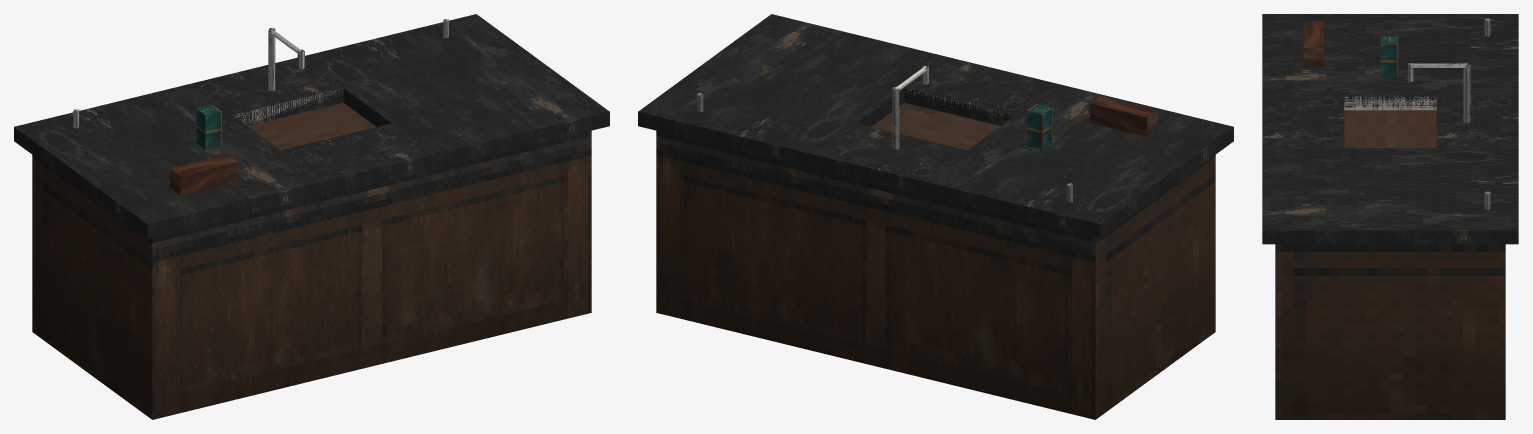
Rendered from prop_labbench-0.glb.
3 renders of one model, left to right at view 1: azimuth 30°, elevation 25°; view 2: azimuth 150°, elevation 25°; view 3: azimuth 270°, elevation 25°, orthographic. The views are drawn at different scales.
Parts seen in each view (by area): view 1: prop_labbench-0; view 2: prop_labbench-0; view 3: prop_labbench-0.
Part boxes in pixels (<box>): prop_labbench-0: <box>14,14,609,419</box>; prop_labbench-0: <box>638,14,1233,419</box>; prop_labbench-0: <box>1262,14,1518,419</box>.
Bounding box in the file's own units: 2 × 1.09 × 1.
4 materials, 4 textured.
